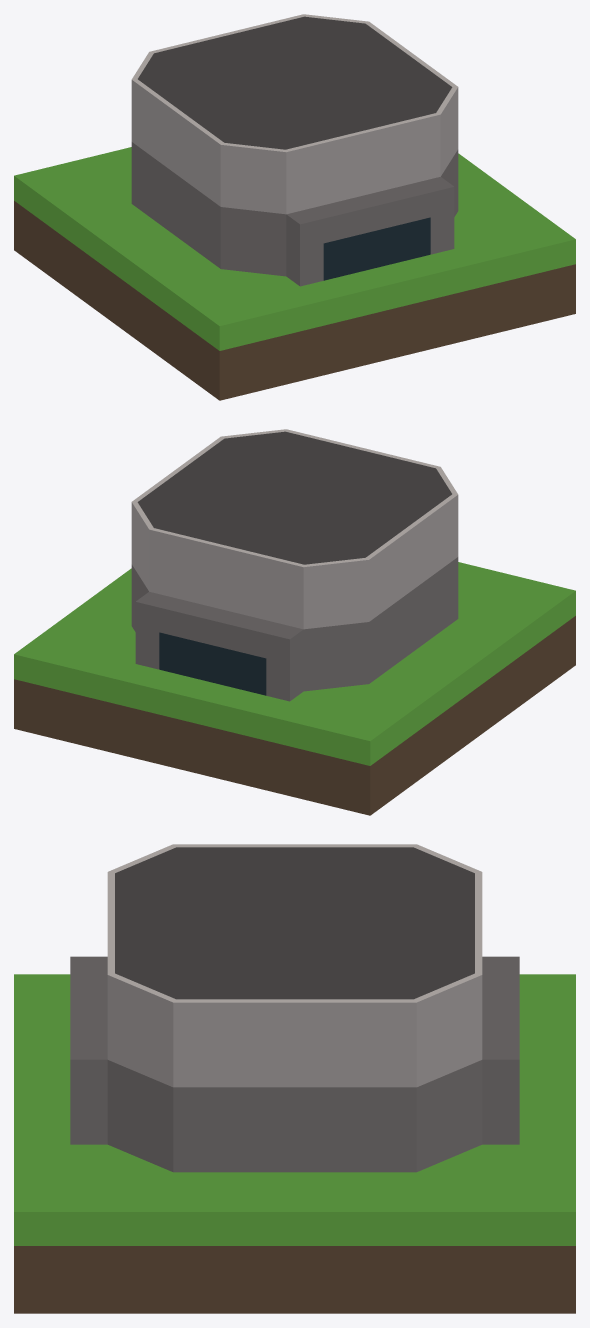
Rendered from skyscraper-tiny.glb.
The picture shows the model from 3 angles, top to bottom: view 1: azimuth 30°, elevation 25°; view 2: azimuth 150°, elevation 25°; view 3: azimuth 270°, elevation 25°; orthographic projection. The views are drawn at different scales.
Visible parts, largest first — view 1: skyscraper-tiny; view 2: skyscraper-tiny; view 3: skyscraper-tiny.
Boxes of the visible parts, left/top/right/bottom form: skyscraper-tiny: left=14, top=14, right=575, bottom=400; skyscraper-tiny: left=14, top=429, right=575, bottom=815; skyscraper-tiny: left=14, top=844, right=575, bottom=1313.
Size of the model in its own units: 30 by 16 by 30.
1 material, 1 textured.
